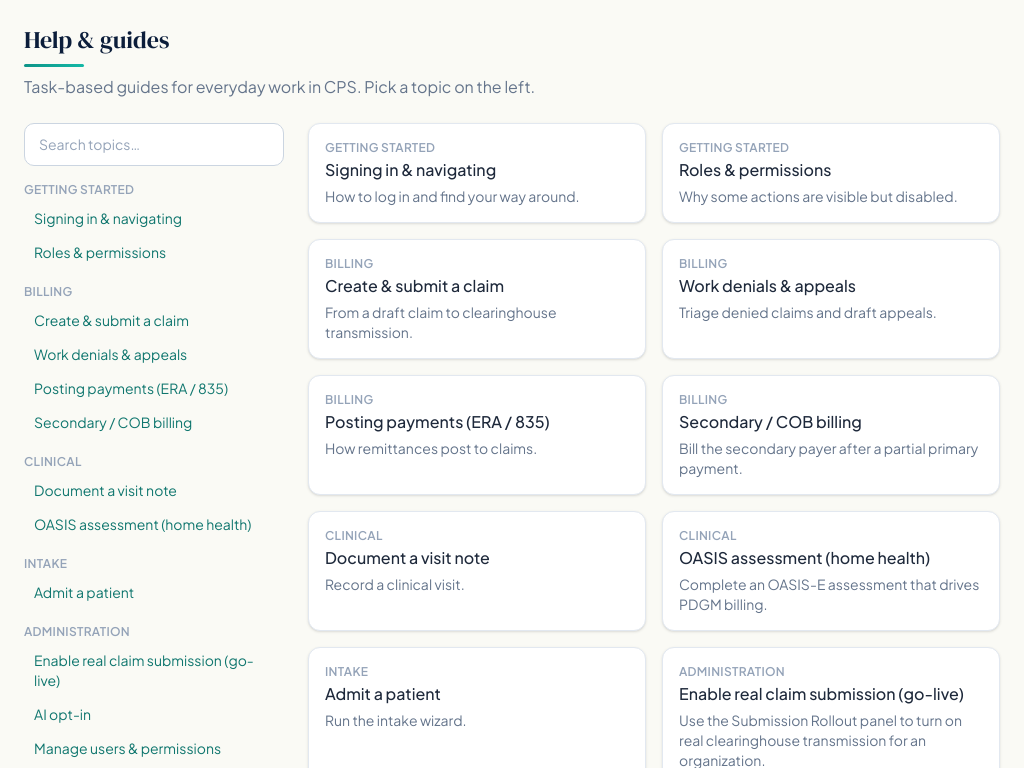
Test case: HelpPage › filters the sidebar by search query
This screenshot has width=1024, height=768.
In the search field with test id "help-search": [154, 144] box [24, 123, 284, 166], type "denial"
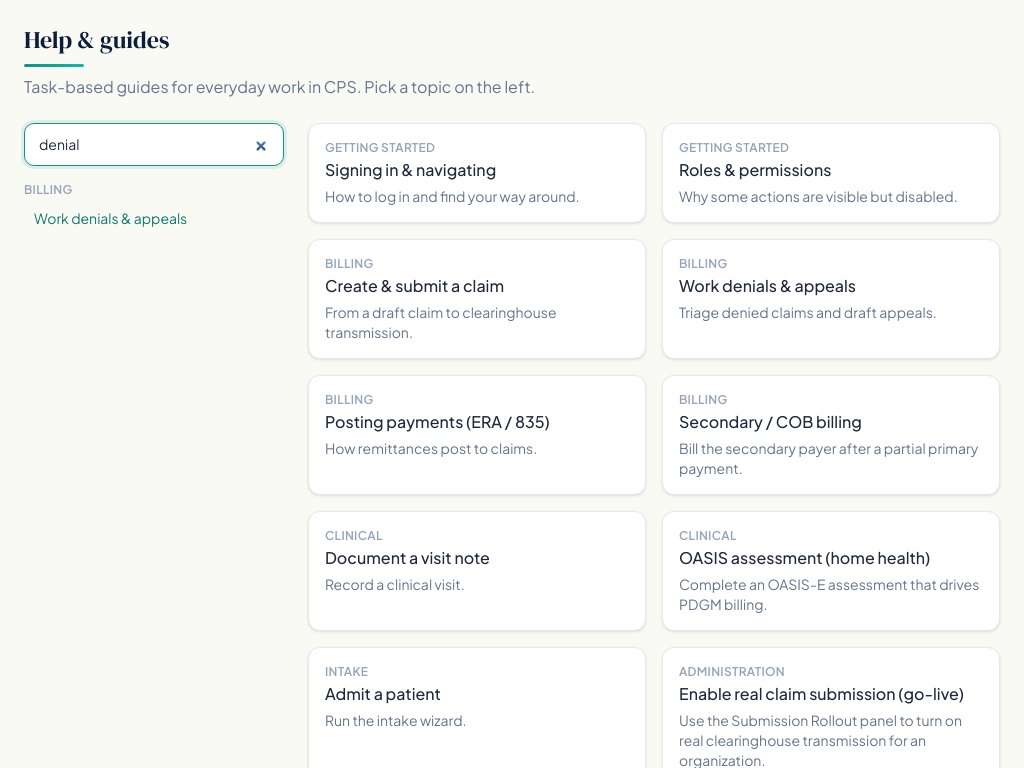
Check: the link with test id "help-link-denials-appeals" is shown, box [34, 209, 187, 227]
Check: the link with test id "help-link-oasis" is gone
